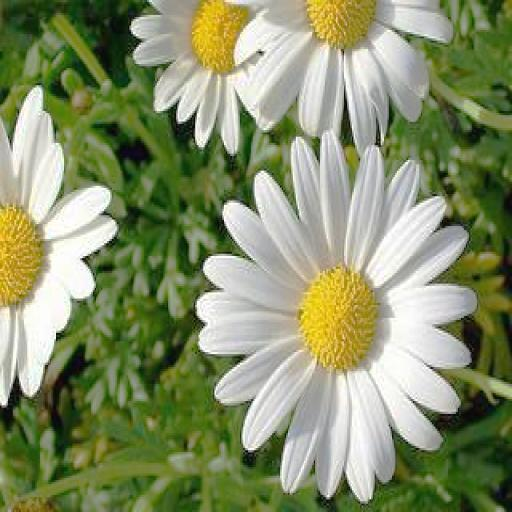daisy: (195, 148, 480, 502)
